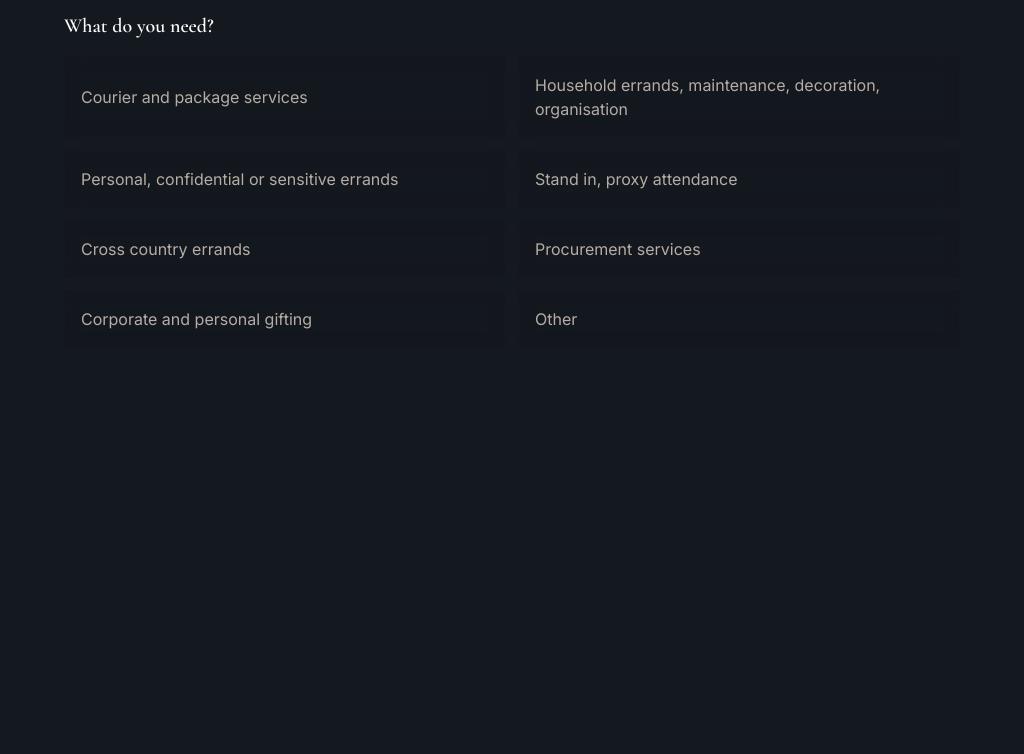
Test case: BookingFlow › shows selected service label in form phase
Click the button "Courier and package services" at point(285, 97), box [64,56,506,138]
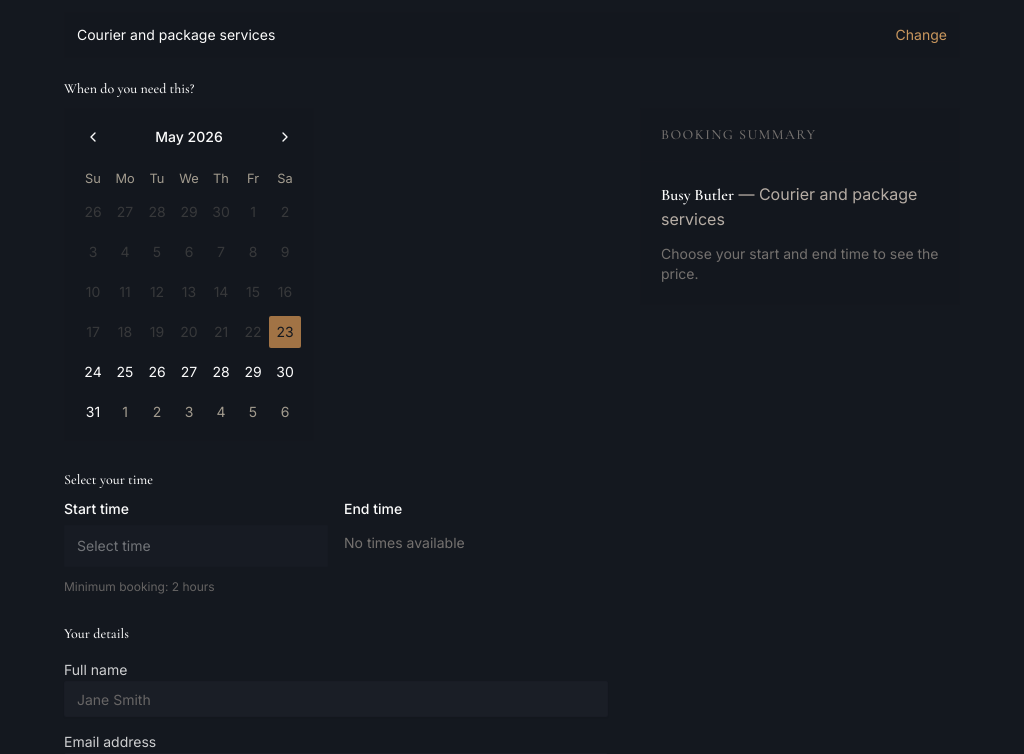
expect the text "Courier and package services" is shown: met, box [77,25,275,45]
